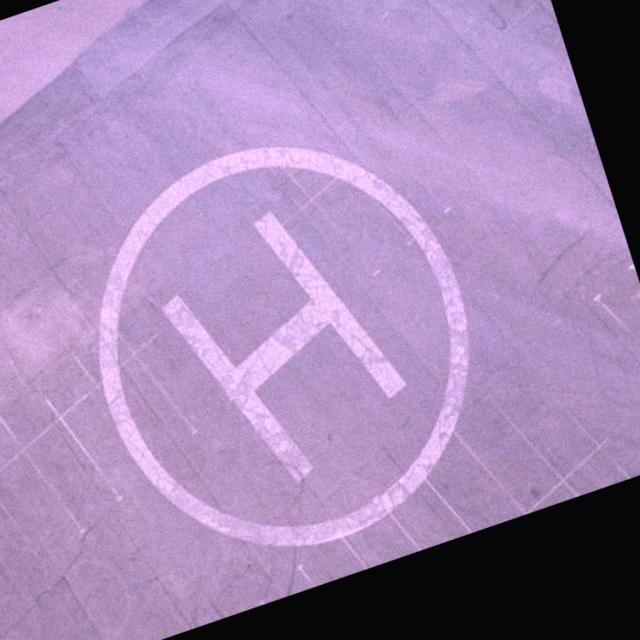helipad: (87, 138, 475, 556)
